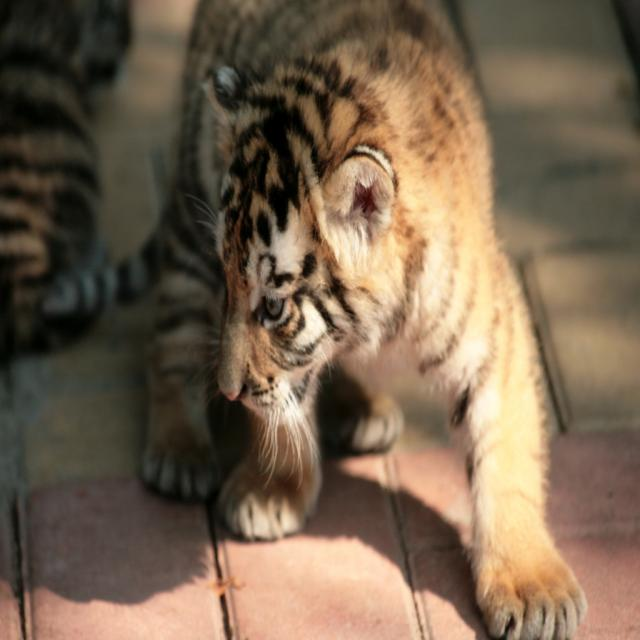Tiger: (45, 0, 588, 639), (0, 0, 132, 358)
